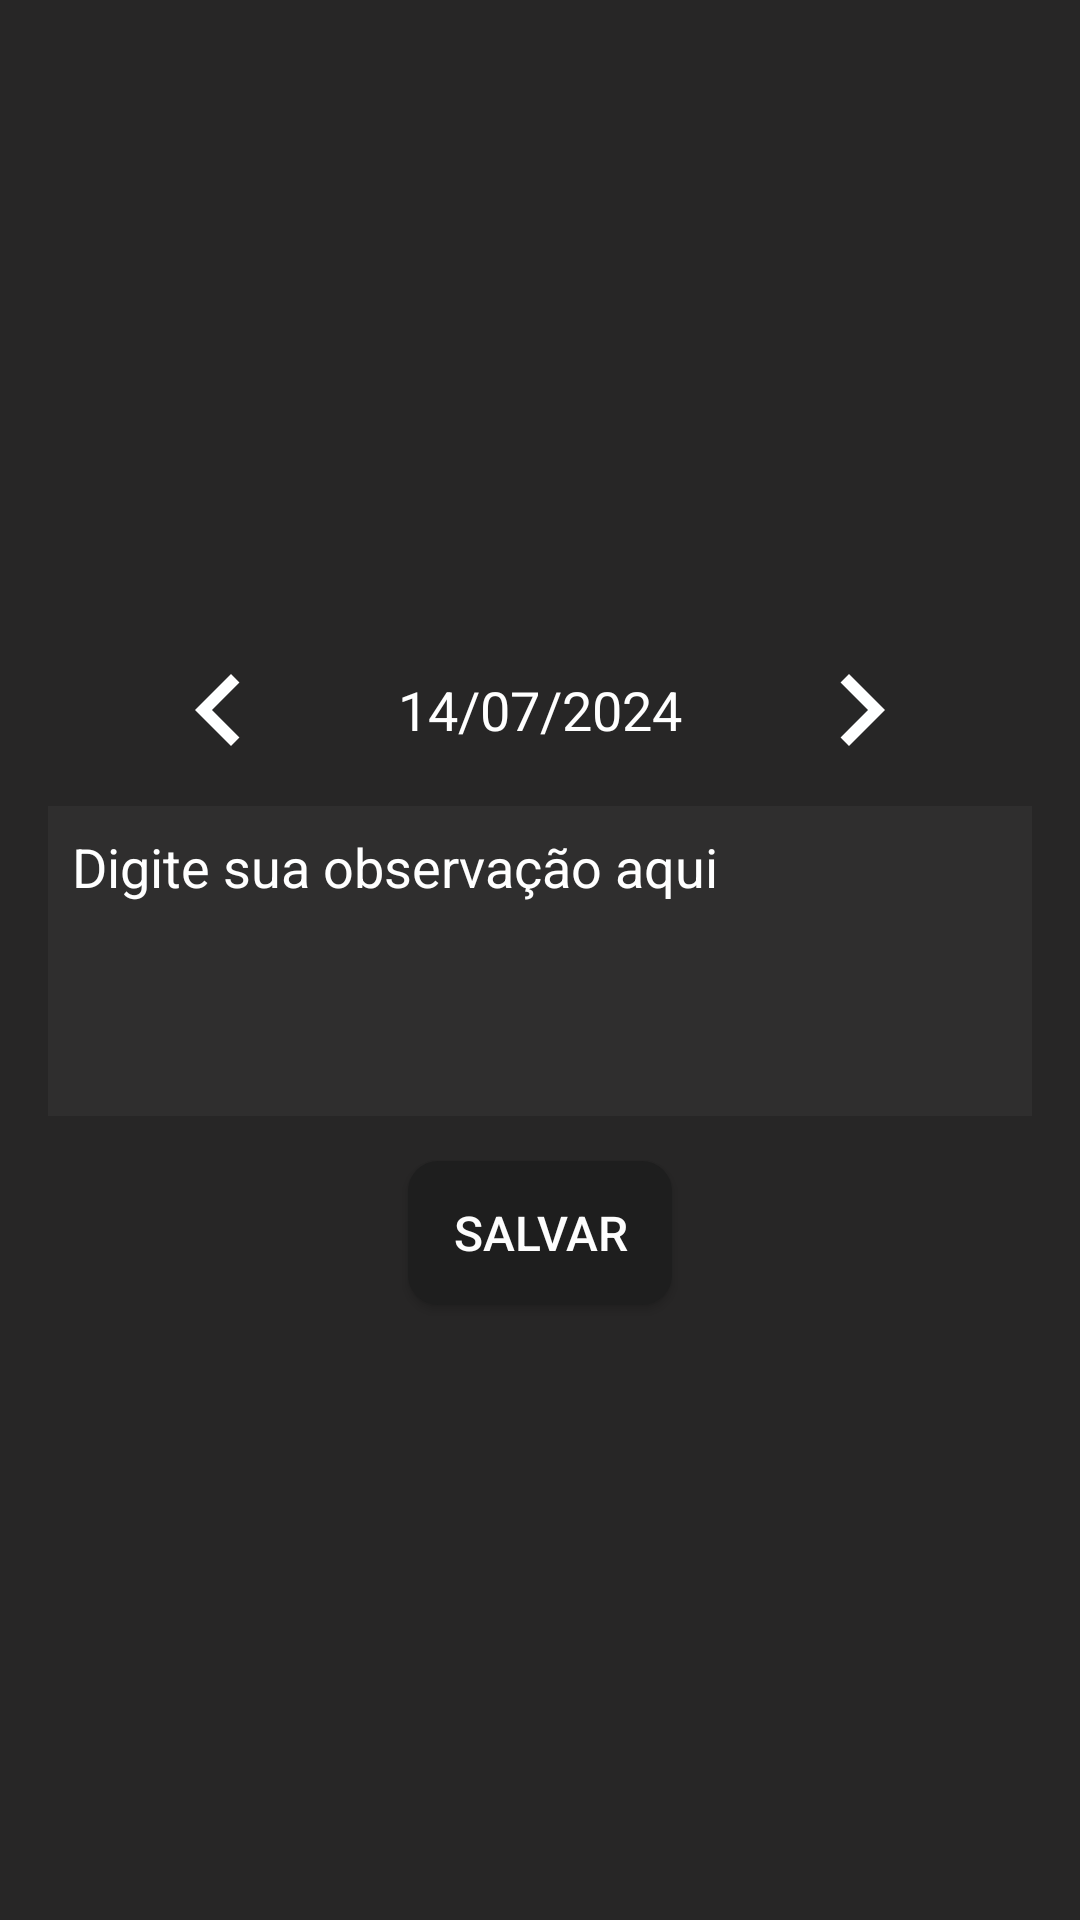

Point at icon controls on the screen. Image size 1080 × 1920, points as point (x, y).
left arrow: point (217, 710)
right arrow: point (862, 710)
